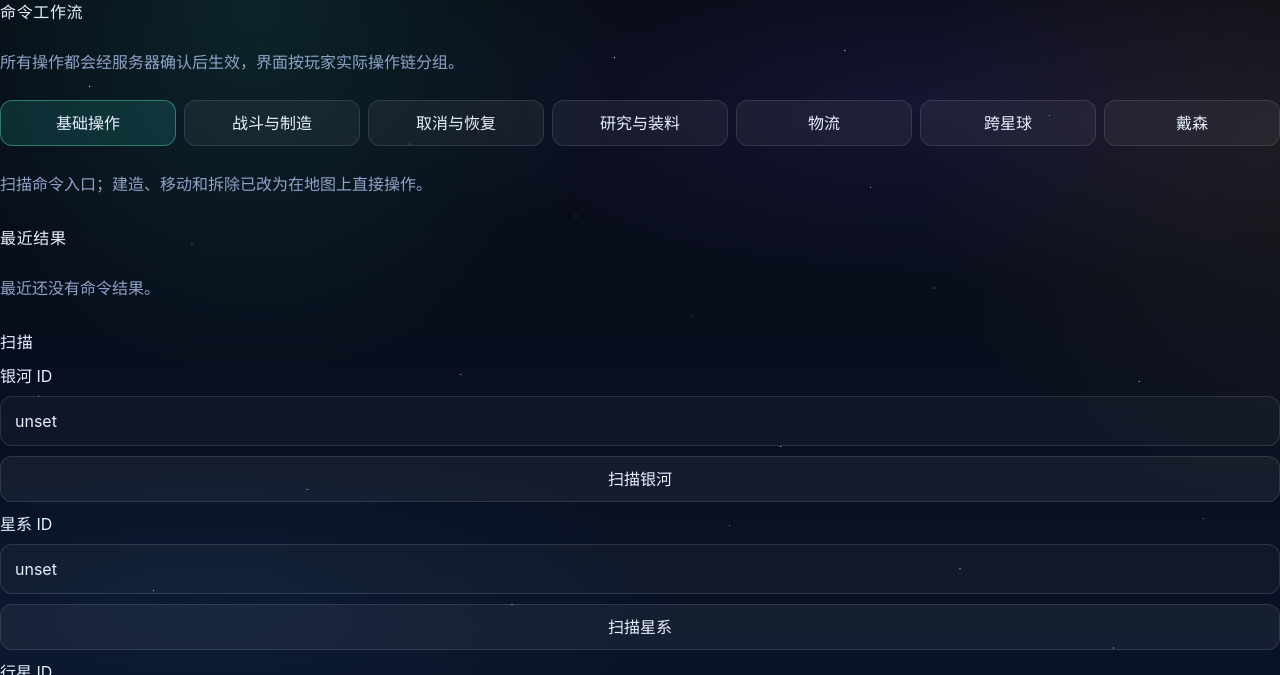
it: PlanetCommandPanel › 未解锁 dirac_inversion 时禁用 photon 模式并直接提示前置科技
This screenshot has width=1280, height=675.
Click the tab "戴森": coordinates (1192, 123) [1104, 100, 1279, 146]
(page scrolled)
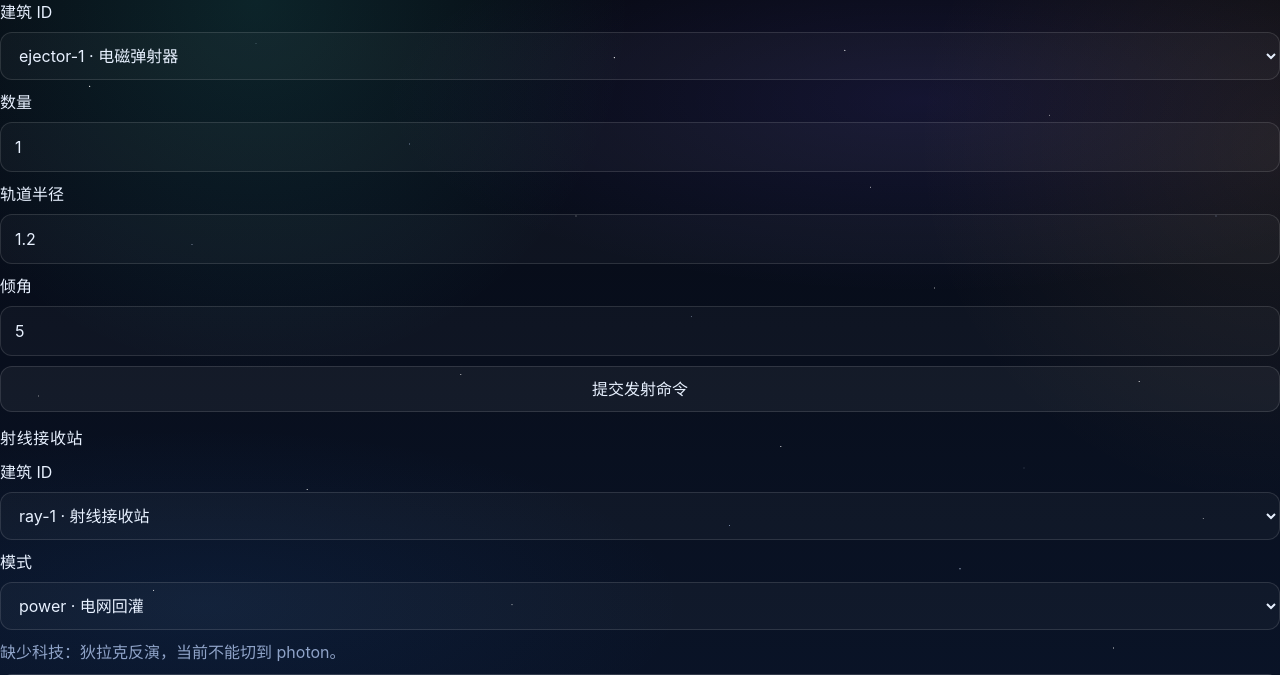
Now the text "缺少科技：狄拉克反演，当前不能切到 photon。" is shown, box [0, 642, 346, 662]
